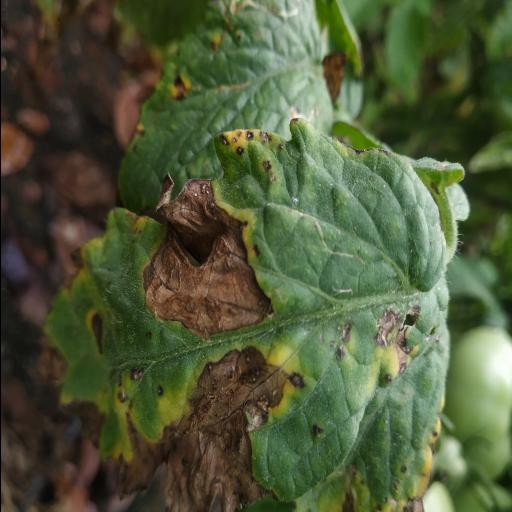Early Blight: (30, 116, 452, 512)
